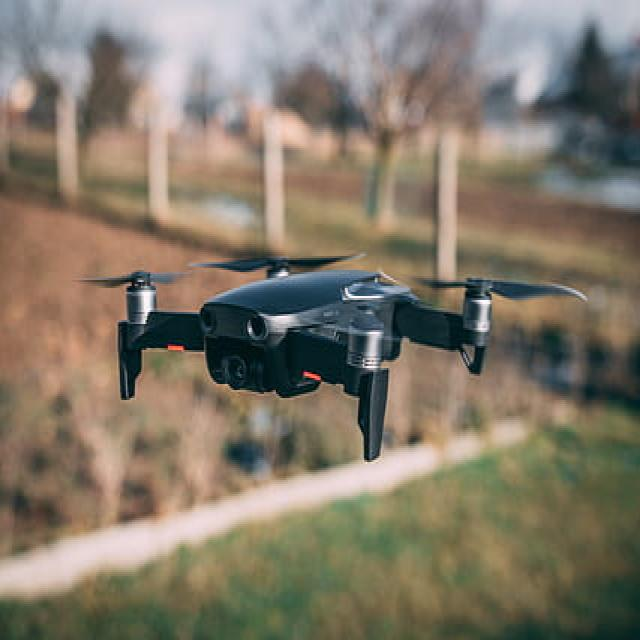drone: (58, 232, 594, 453)
